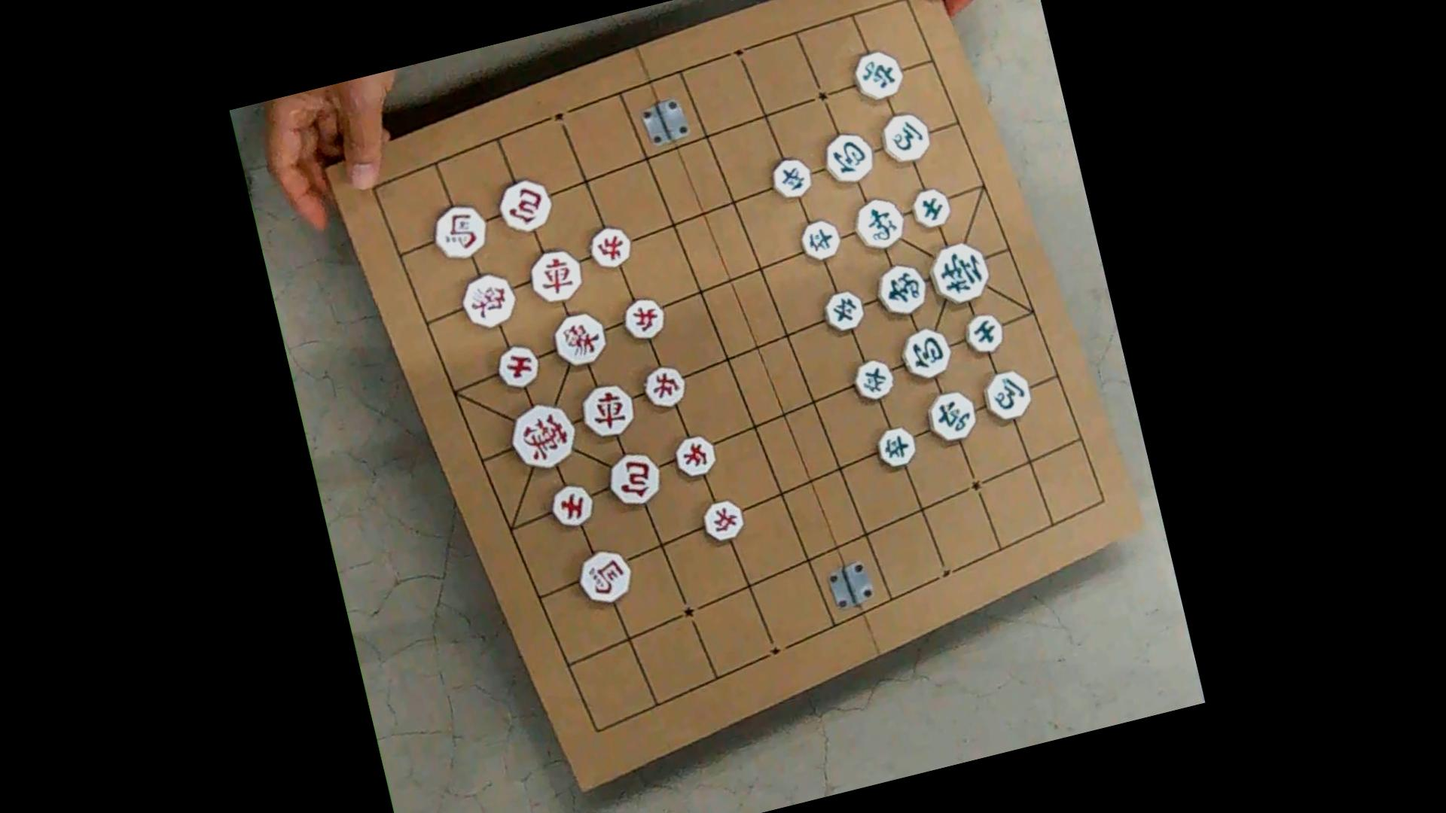cha_green: (923, 388, 981, 448), (850, 47, 908, 105)
cha_red: (577, 381, 639, 441), (525, 248, 587, 308)
jol_green: (850, 358, 896, 404), (797, 218, 844, 263), (768, 157, 814, 202), (821, 290, 867, 335), (874, 427, 920, 472)
jol_red: (699, 498, 747, 546), (586, 224, 635, 271), (620, 296, 669, 343), (640, 364, 689, 411), (671, 434, 718, 480)
ma_green: (877, 110, 935, 168), (980, 368, 1036, 425)
ma_red: (429, 202, 492, 264), (574, 547, 636, 608)
po_green: (819, 129, 877, 187), (897, 326, 956, 383)
po_red: (603, 449, 665, 510), (494, 177, 557, 236)
sa_green: (908, 187, 954, 233), (962, 312, 1007, 358)
sa_red: (493, 343, 543, 391), (547, 482, 596, 530)
sang_green: (872, 261, 931, 319), (850, 196, 908, 254)
sang_red: (457, 272, 520, 332), (549, 310, 610, 370)
wang_green: (925, 239, 995, 310)
wang_red: (505, 400, 582, 474)
